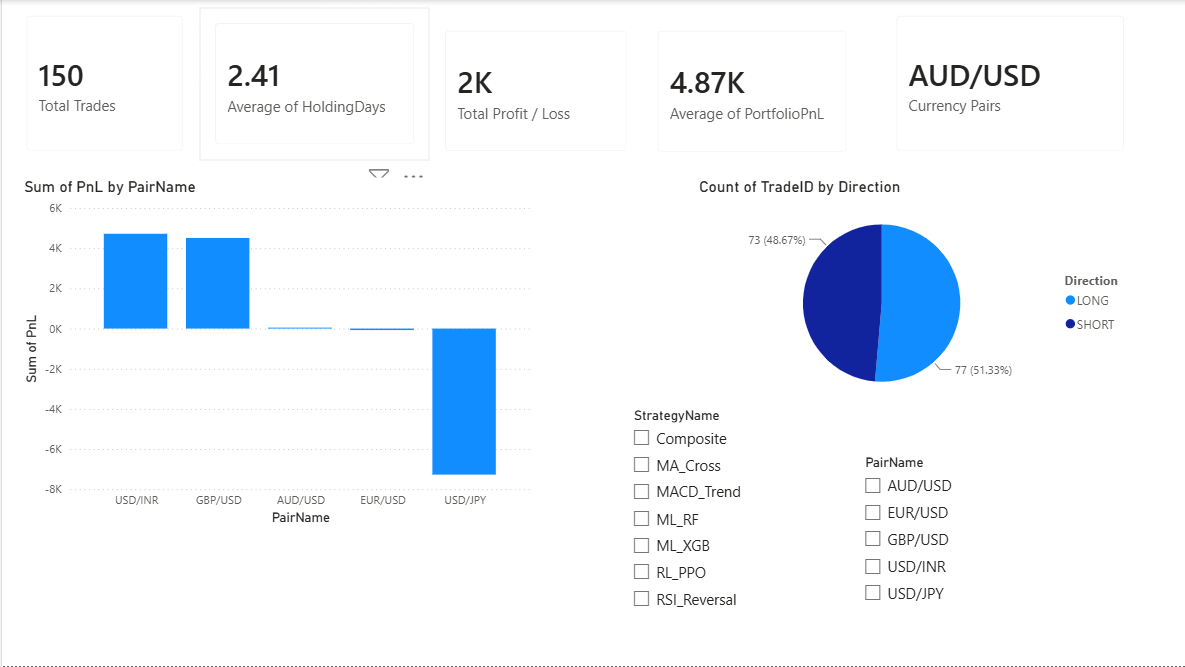

What the dashboard file says about the page in this screenshot:
{"tool":"powerbi","page":{"name":"Overview","canvas":[1280,720],"ordinal":0},"visuals":[{"type":"cardVisual","fields":{"Data":["CountNonNull(trade_processed (2).TradeID)"]},"box":[9.4,0,203.3,180.4],"z":0},{"type":"cardVisual","fields":{"Data":["Sum(trade_processed (2).PnL)"]},"box":[461.8,16.2,230.2,164.2],"z":1000},{"type":"cardVisual","fields":{"Data":["Avg(trade_processed (2).HoldingDays)"]},"box":[212.7,8.1,249.1,165.6],"z":2000},{"type":"cardVisual","fields":{"Data":["Avg(mc_processed.PortfolioPnL)"]},"box":[692,16.2,238.3,165.6],"z":3000},{"type":"cardVisual","fields":{"Data":["Min(trade_processed (2).PairName)"]},"box":[949.4,0,279.6,174.2],"z":4000},{"type":"clusteredColumnChart","fields":{"Category":["trade_processed (2).PairName"],"Y":["Sum(trade_processed (2).PnL)"]},"box":[18.9,191.8,557.8,380.8],"z":5000},{"type":"pieChart","fields":{"Category":["trade_processed (2).Direction"],"Y":["CountNonNull(trade_processed (2).TradeID)"]},"box":[748.2,191.8,480.8,252.5],"z":6000},{"type":"slicer","fields":{"Values":["trade_processed (2).PairName"]},"box":[919.7,486.2,360.6,198.5],"z":7000},{"type":"slicer","fields":{"Values":["trade_processed (2).StrategyName"]},"box":[639.5,434.9,191.9,250],"z":8000}]}

Visuals, with their boxes in screenshot pixels (x1, y1, x2, y2), scaled from the page's 1280x720 canvas onto the 1185x667 screenshot:
cardVisual - CountNonNull(trade_processed (2).TradeID): x1=9, y1=0, x2=197, y2=167
cardVisual - Sum(trade_processed (2).PnL): x1=428, y1=15, x2=641, y2=167
cardVisual - Avg(trade_processed (2).HoldingDays): x1=197, y1=8, x2=428, y2=161
cardVisual - Avg(mc_processed.PortfolioPnL): x1=641, y1=15, x2=861, y2=168
cardVisual - Min(trade_processed (2).PairName): x1=879, y1=0, x2=1138, y2=161
clusteredColumnChart - trade_processed (2).PairName x Sum(trade_processed (2).PnL): x1=17, y1=178, x2=534, y2=530
pieChart - trade_processed (2).Direction x CountNonNull(trade_processed (2).TradeID): x1=693, y1=178, x2=1138, y2=412
slicer - trade_processed (2).PairName: x1=851, y1=450, x2=1184, y2=634
slicer - trade_processed (2).StrategyName: x1=592, y1=403, x2=770, y2=634
